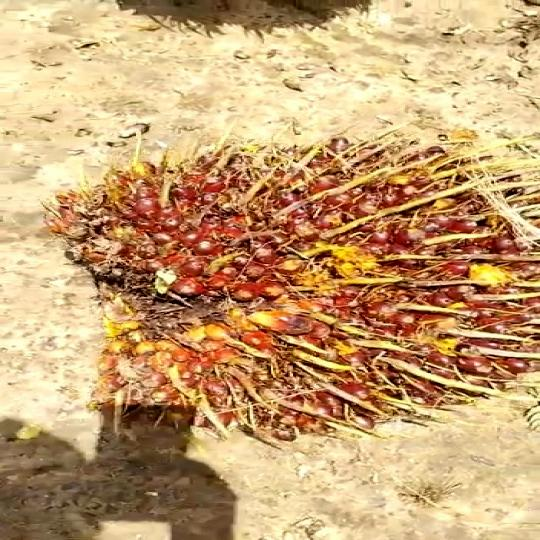masak: (50, 124, 540, 441)
